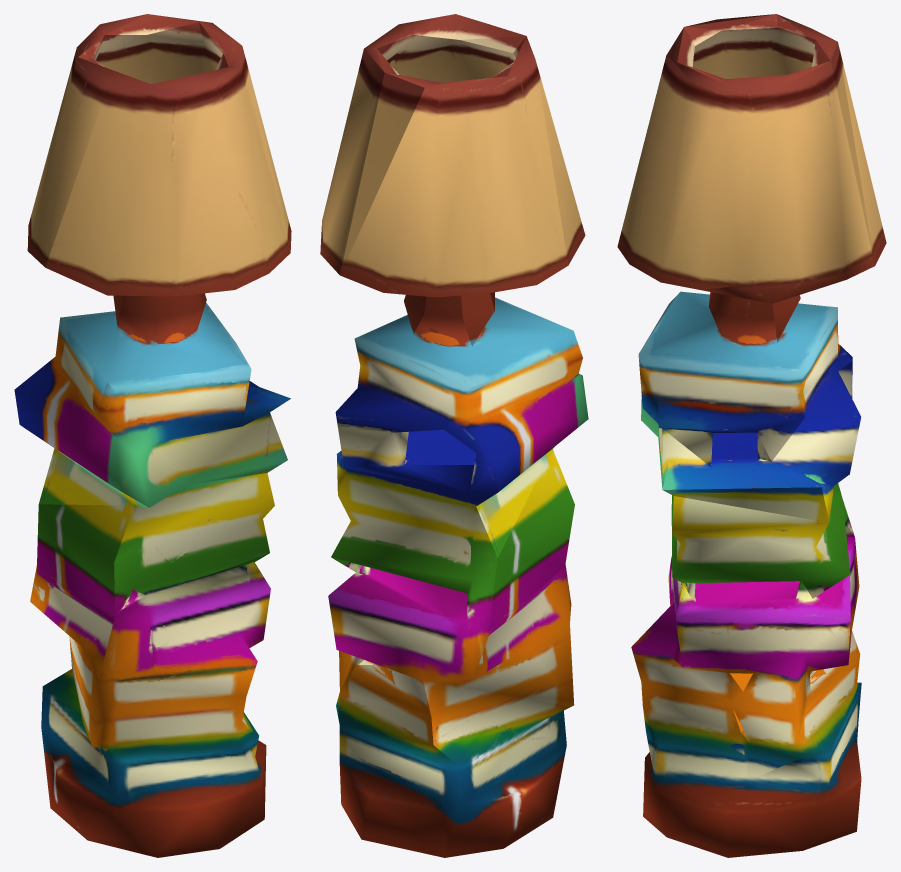
The model's file is bookstack-floor-lamp.glb.
3 renders of one model, left to right at view 1: azimuth 30°, elevation 25°; view 2: azimuth 150°, elevation 25°; view 3: azimuth 270°, elevation 25°, orthographic.
Parts seen in each view (by area): view 1: geometry_0.001; view 2: geometry_0.001; view 3: geometry_0.001.
Part boxes in pixels (x1,y1,x2,y2): geometry_0.001: [14, 14, 291, 857]; geometry_0.001: [320, 14, 588, 857]; geometry_0.001: [617, 14, 886, 857].
Bounding box in the file's own units: 0.3142 × 1 × 0.3178.
1 material, 1 textured.
